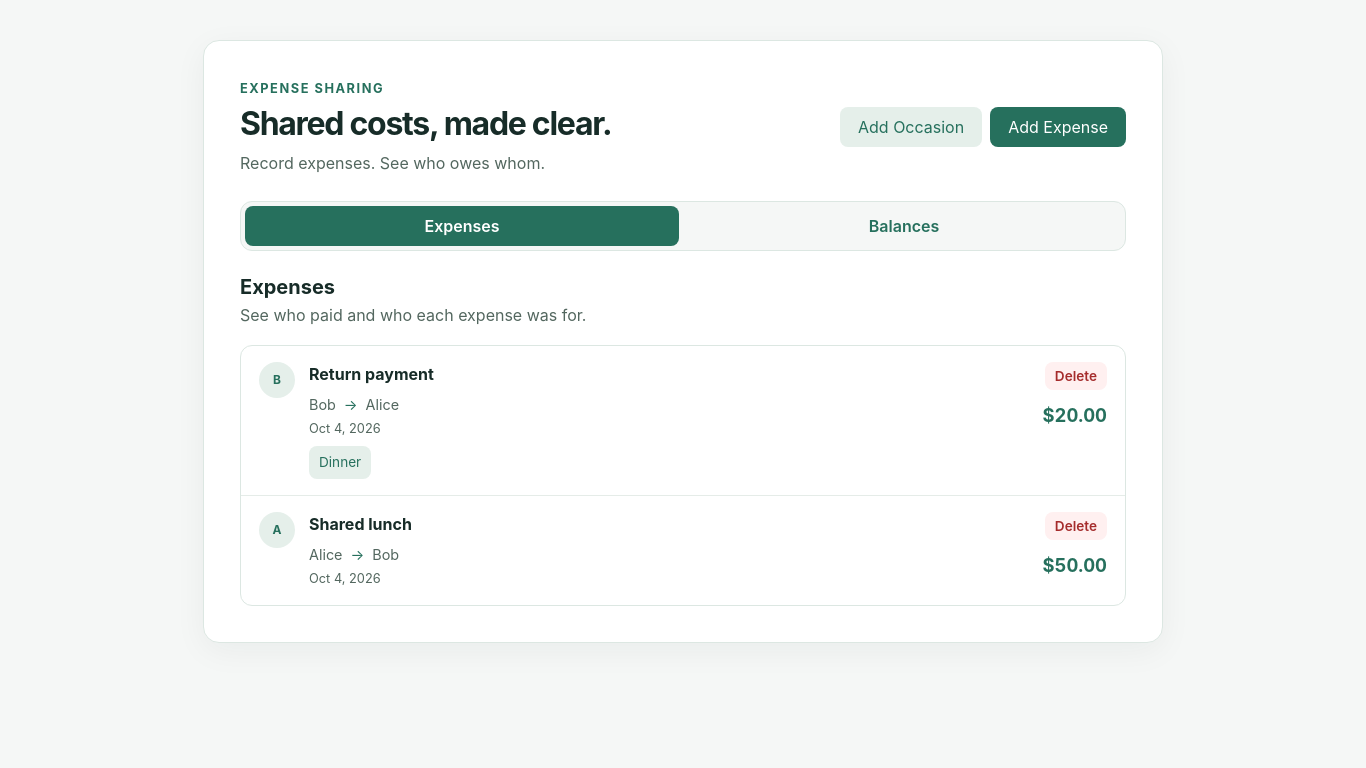
Scenario: names the expense and amount, and leaves both views unchanged after Cancel
Expected: the list named "Expenses" is shown, [240,345,1126,606]
Step 1. Click the tab "Balances" → (904, 226), box [687,206,1121,246]
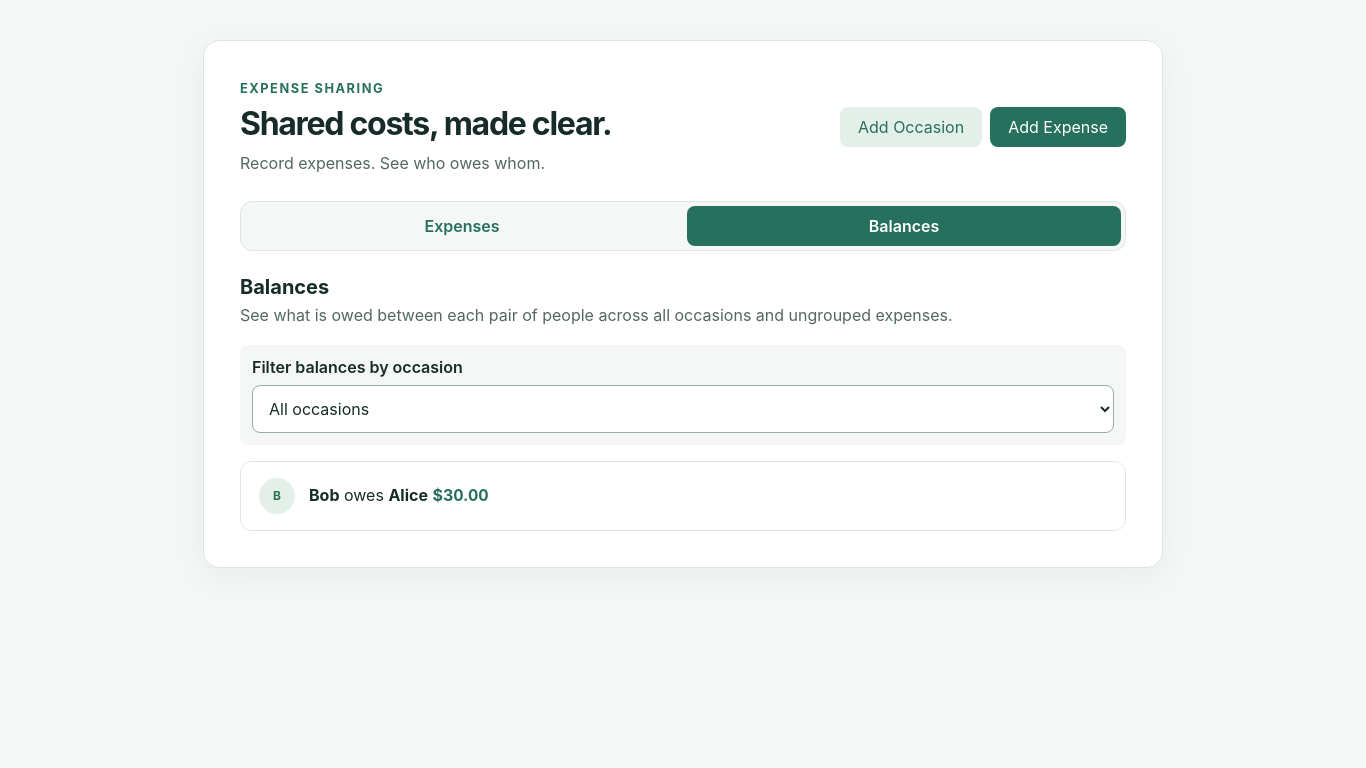
Now the list named "Balances" is shown, box [240,461,1126,531]
Step 2. Click the tab "Expenses" → (462, 226), box [245,206,679,246]
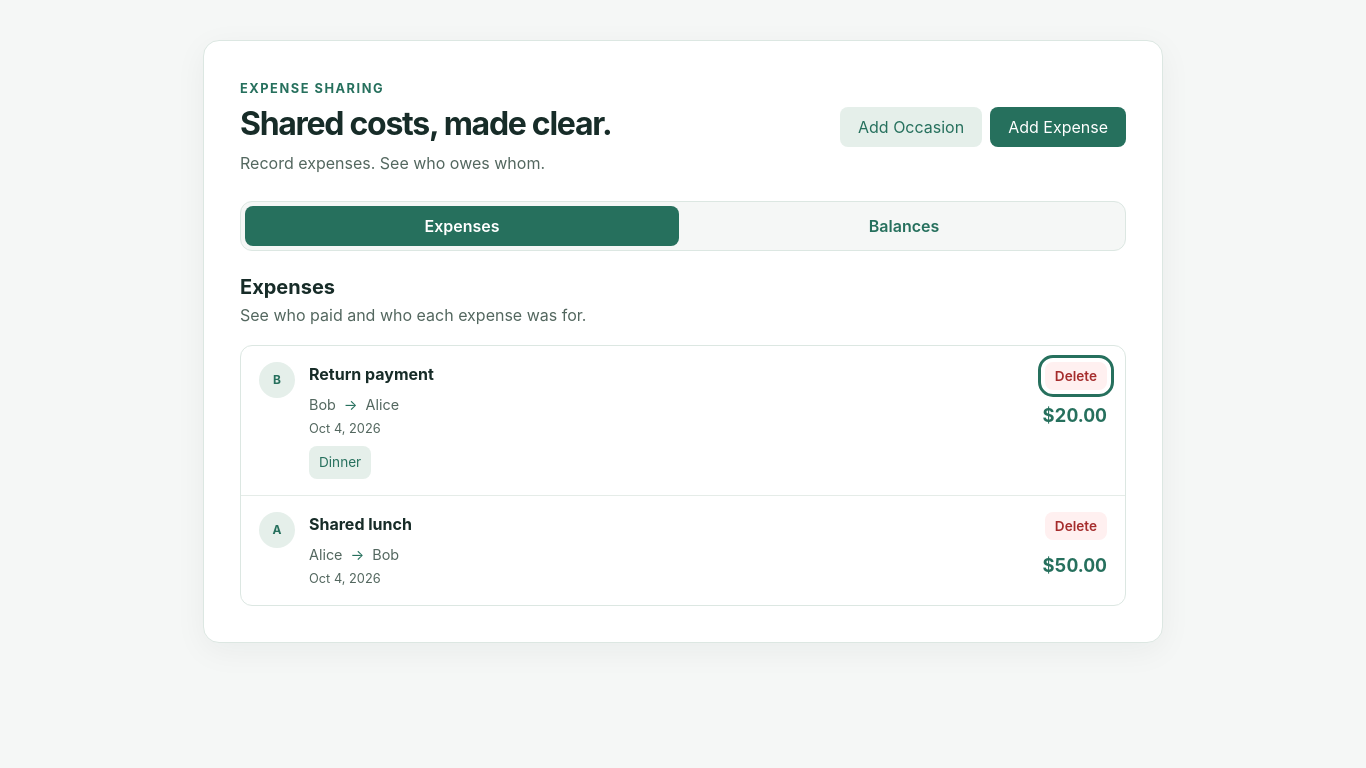
Step 3. Click the button with aria-label "Delete expense: Return payment ($20.00)" → (1076, 376), box [1045,362,1107,390]
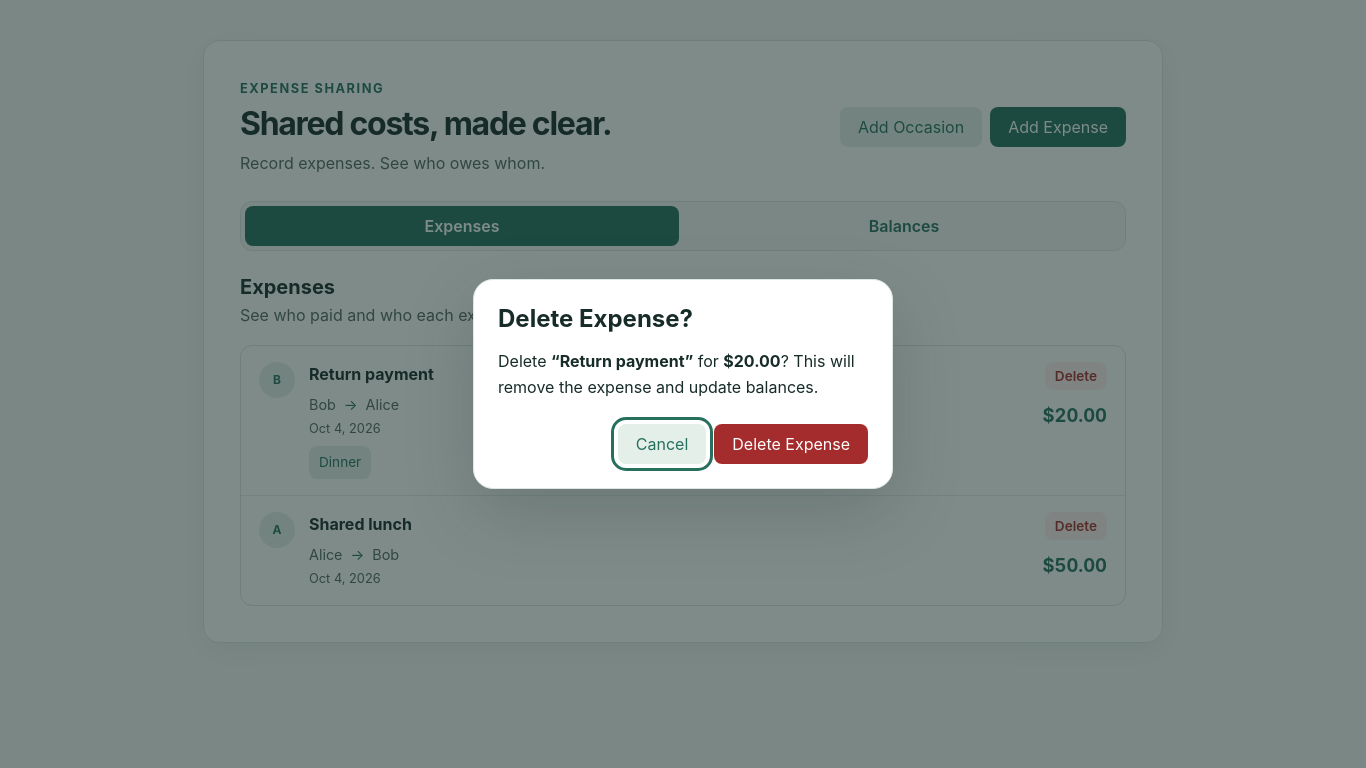
Now the text "“Return payment”" is shown, box [551,351,693,371]
Now the text "$20.00" is shown, box [723,351,781,371]
Step 4. Click the button "Cancel" → (662, 444), box [618,424,706,464]
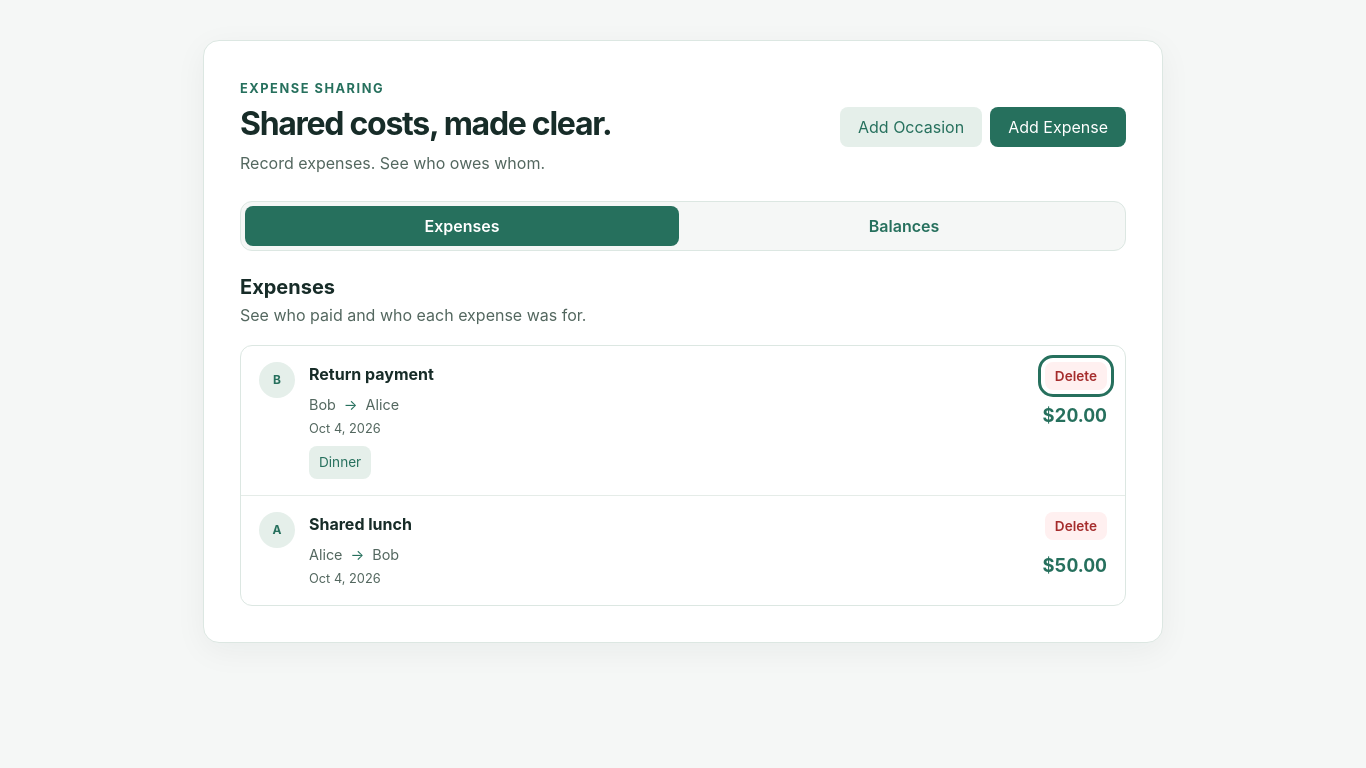
Now the dialog is gone
